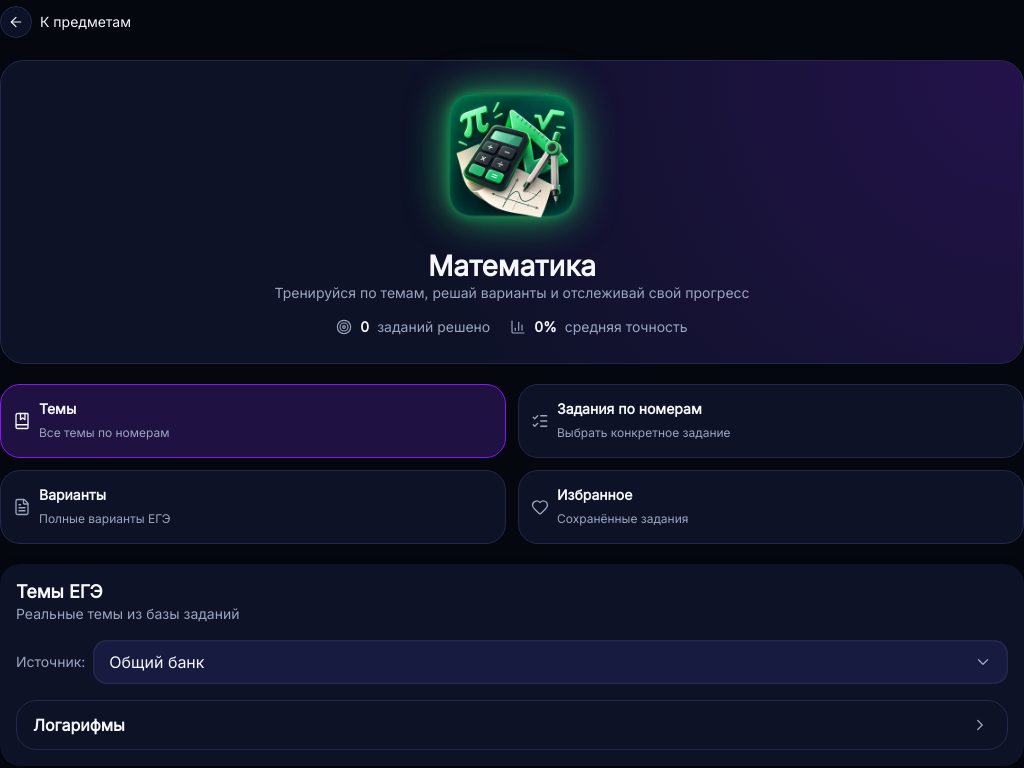
Test: SubjectDesktop — Темы (real API, no fake hash) › switching the topics source selector refetches scoped by the new collection
Expected: the text "Логарифмы" is shown, [33,715,125,735]
Click the button "Общий банк": x=157, y=662 [93,640,1008,684]
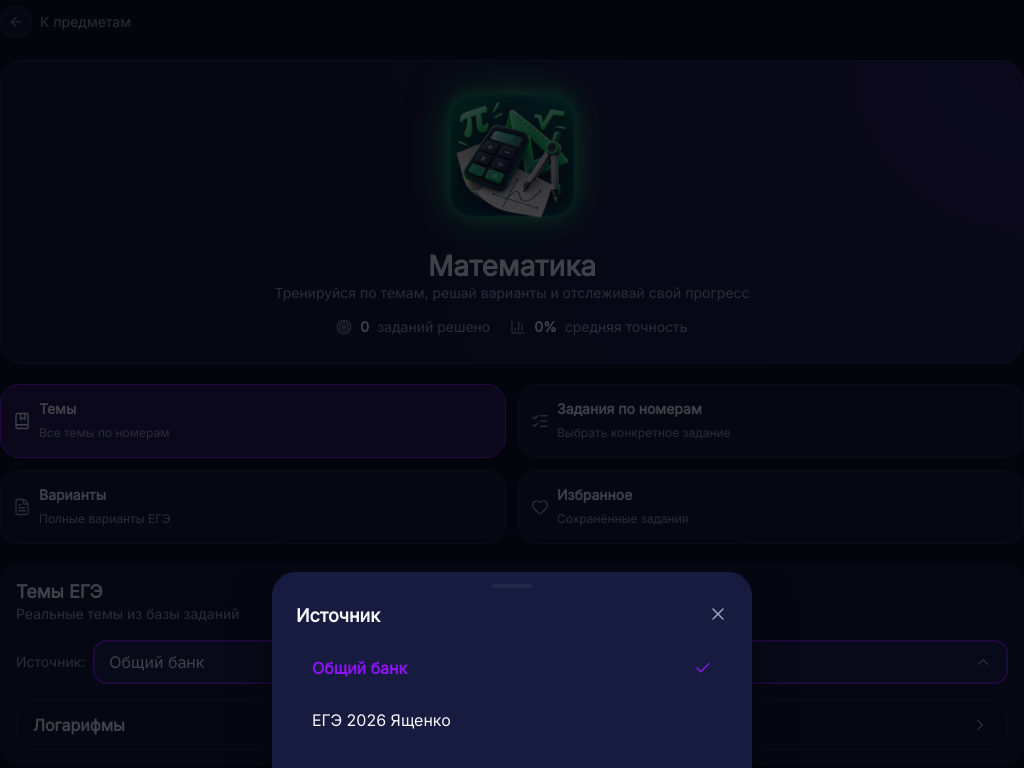
Click the option "ЕГЭ 2026 Ященко": x=381, y=720 [296,696,728,744]
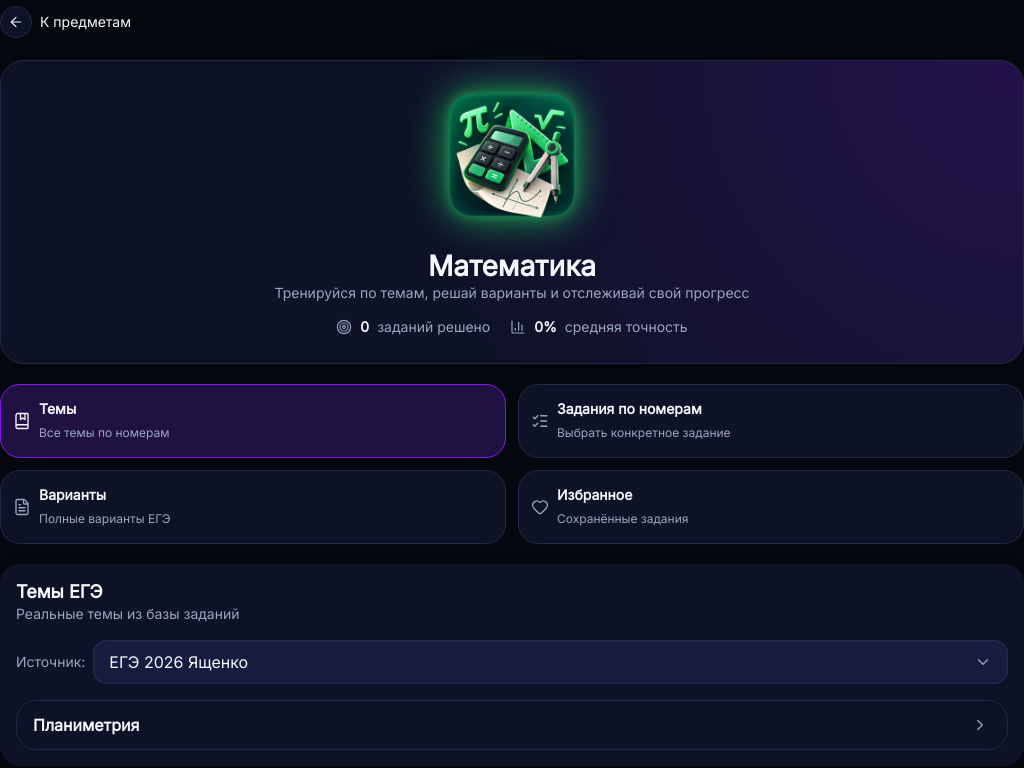
Now the text "Планиметрия" is shown, box [33,715,139,735]
